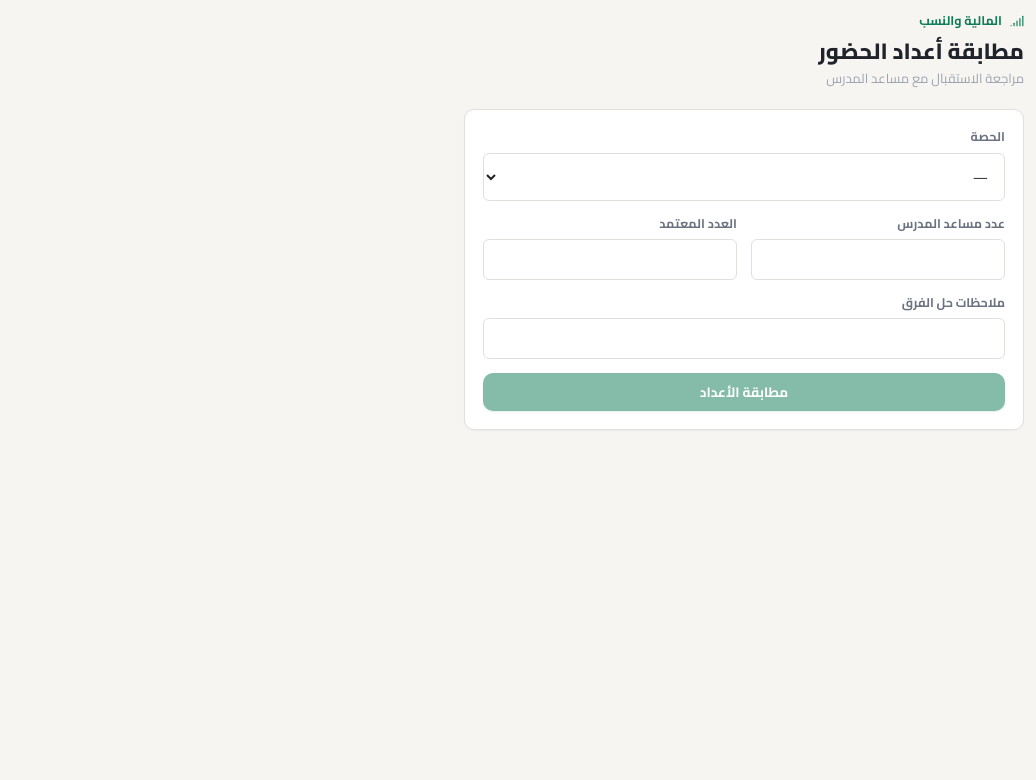
SessionActionPage reconciliation (mode="reconciliation") › reconciles a selected session with assistant count, headcount, and notes
expect the heading "مطابقة أعداد الحضور" is shown: met, box [818,37,1024,65]
Select "فيزياء (3)" in the dropdown labelled "الحصة". click: (744, 177)
box: [483,153,1005,201]
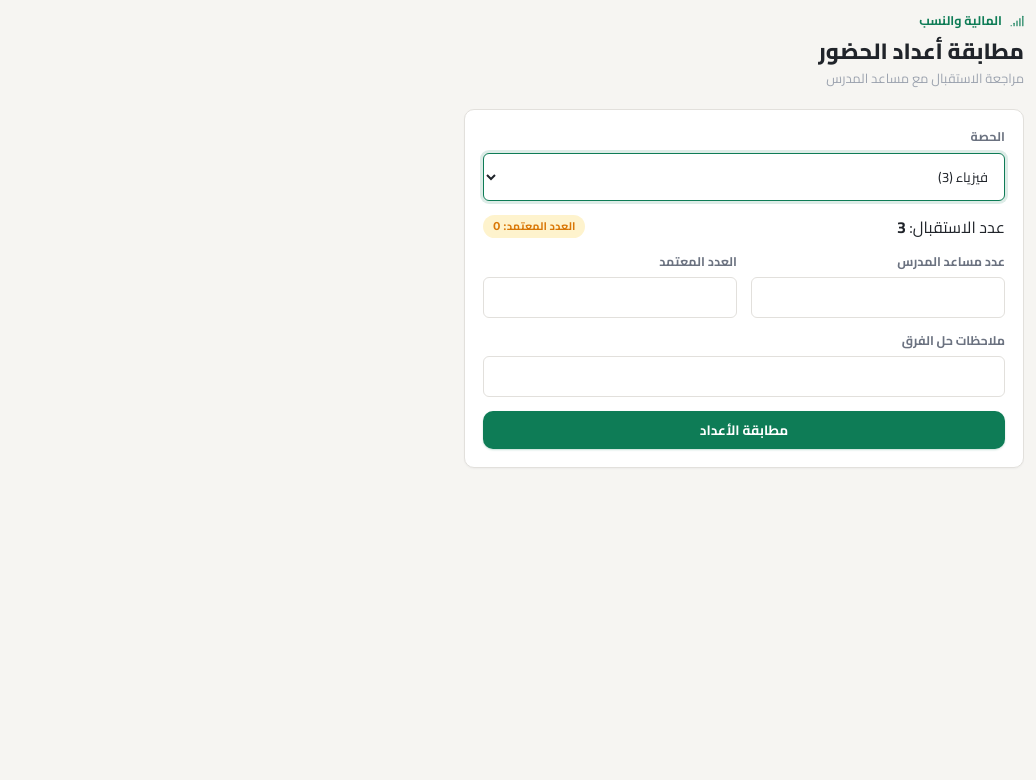
Type "2" into the number field labelled "عدد مساعد المدرس". click: (878, 297)
box: [751,277,1005,318]
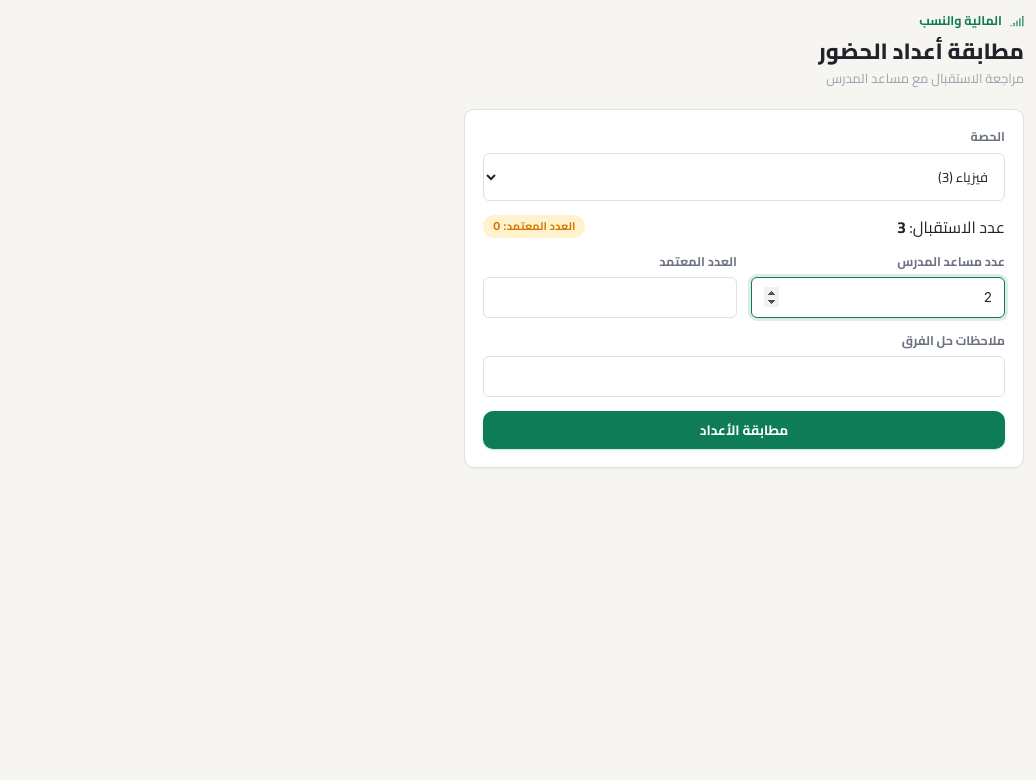
Type "3" into the number field labelled "العدد المعتمد". click: (610, 297)
box: [483,277,737,318]
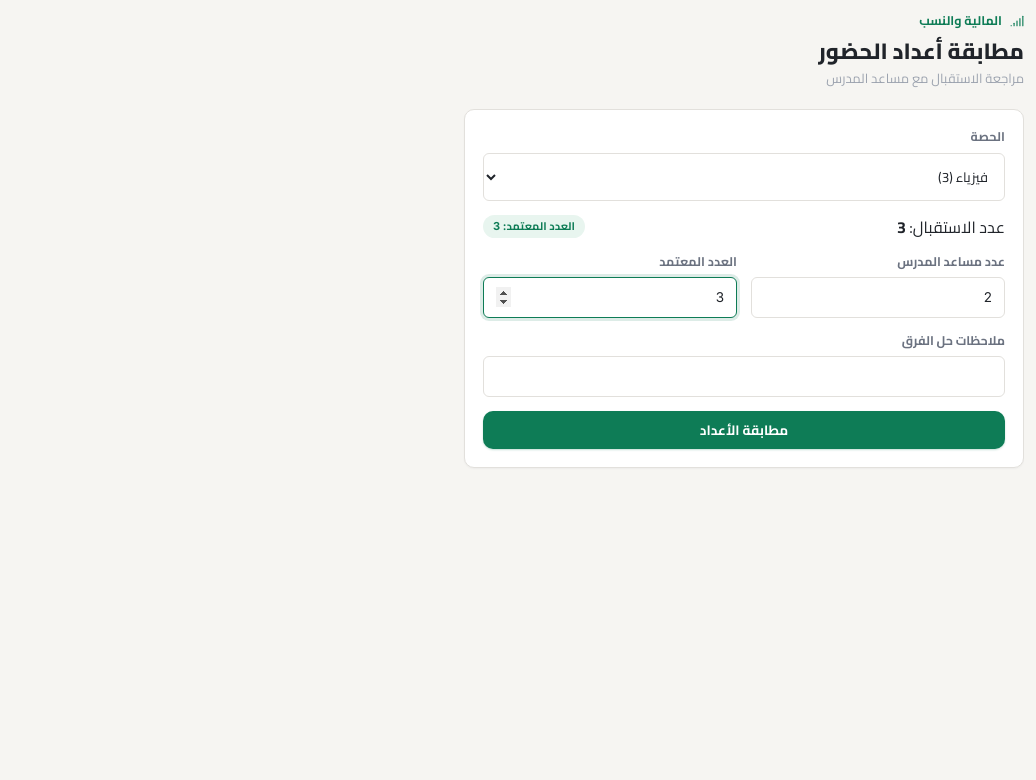
Type "الفرق معتمد" into the field labelled "ملاحظات حل الفرق". click: (744, 376)
box: [483,356,1005,397]
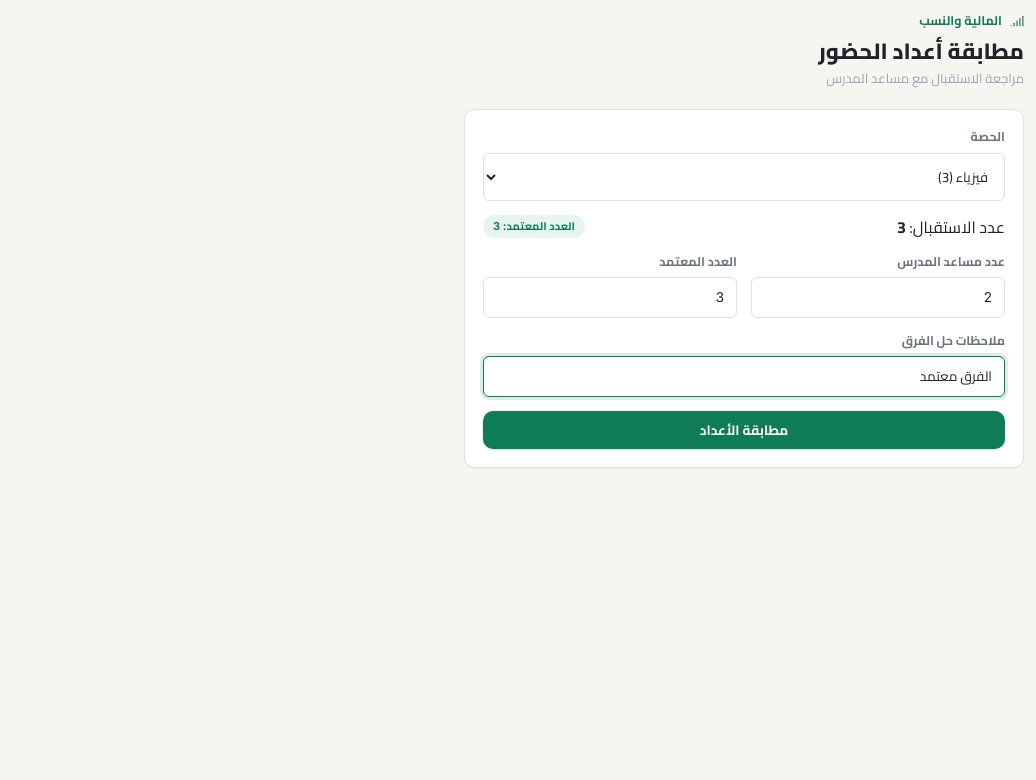
Click the button "مطابقة الأعداد". click: (744, 430)
box: [483,411,1005,450]
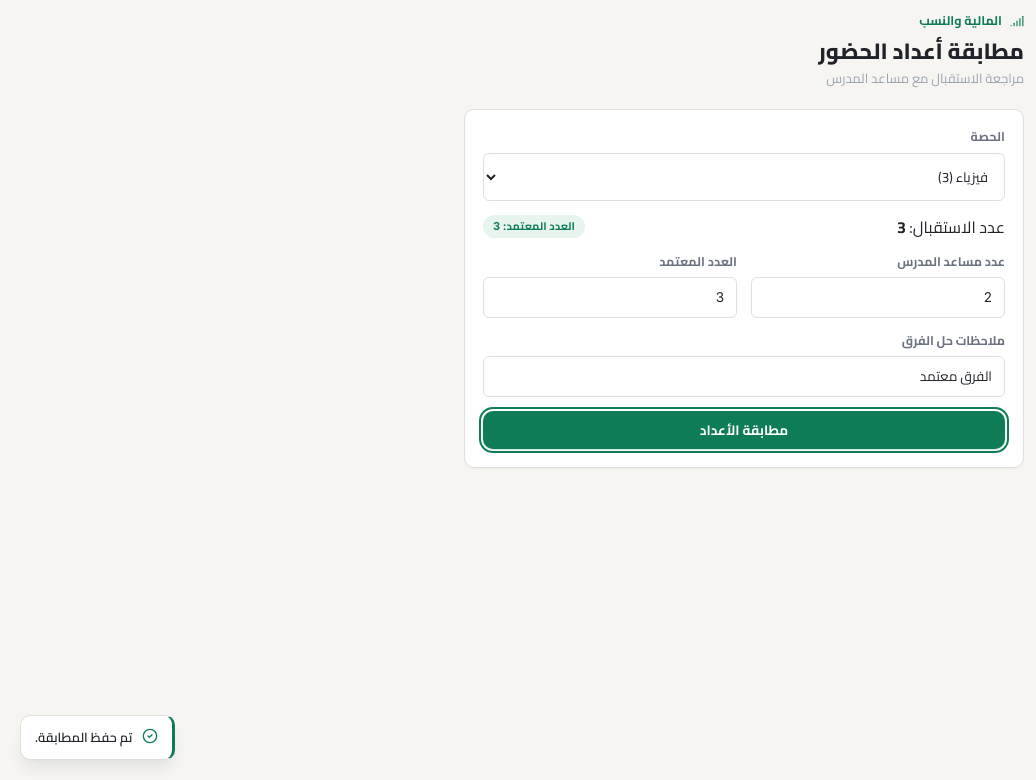
expect the text "تم حفظ المطابقة." is shown: met, box [35,728,132,747]
